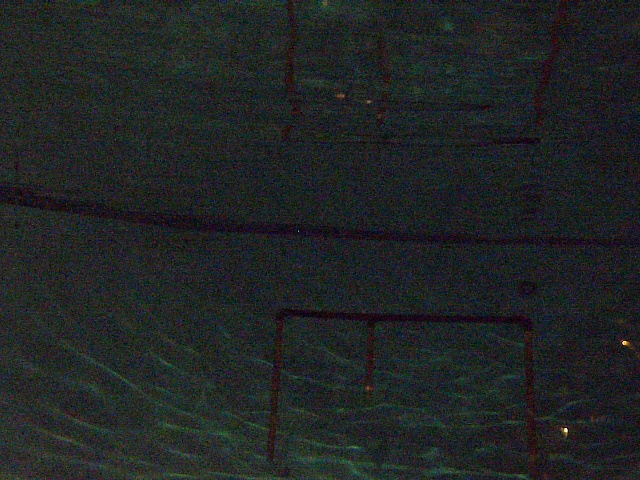Gate: (521, 326, 543, 465), (266, 314, 281, 459), (363, 321, 376, 402)
